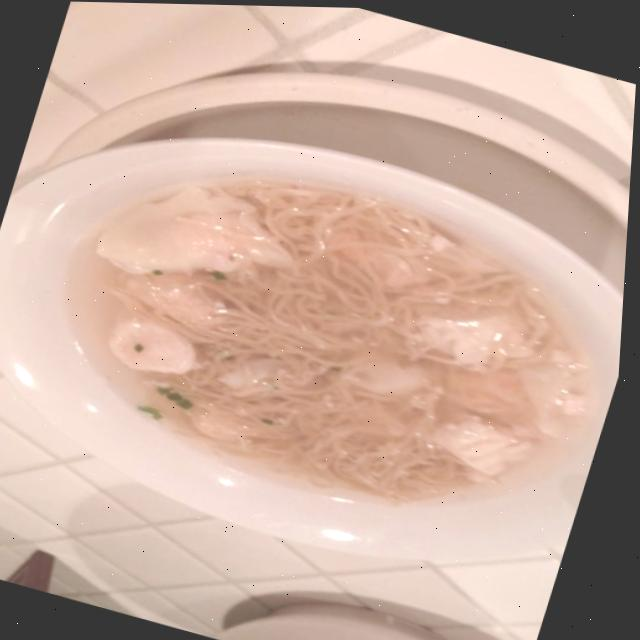汤锅炖物: (0, 62, 637, 640)
